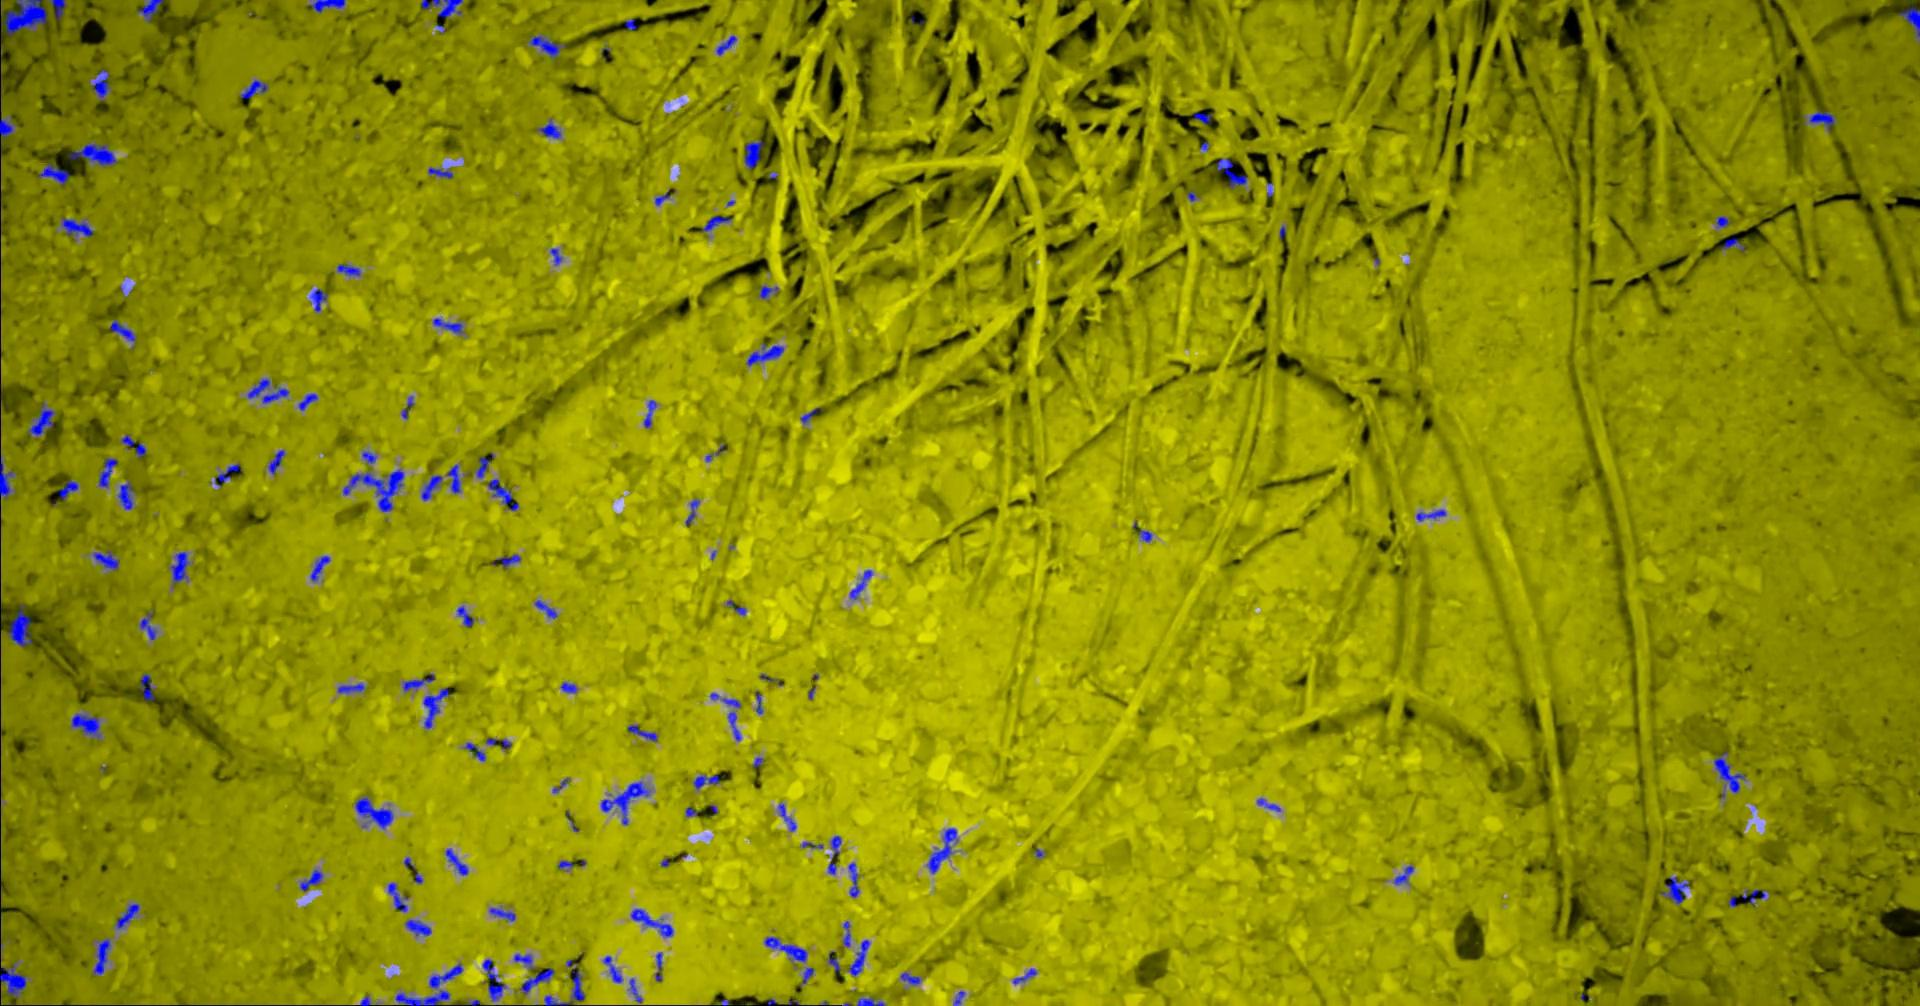ant: (344, 469, 405, 511), (602, 781, 651, 824), (1, 0, 48, 36), (928, 828, 959, 873), (1716, 751, 1747, 793), (356, 796, 395, 828), (632, 908, 676, 936), (424, 687, 453, 728), (70, 144, 119, 166), (488, 478, 521, 511), (766, 936, 808, 962), (10, 603, 34, 647), (249, 379, 290, 403), (484, 958, 507, 1000), (521, 967, 556, 993), (1218, 158, 1250, 187), (29, 401, 56, 434), (1, 964, 28, 997), (530, 36, 568, 58), (430, 963, 463, 988), (397, 989, 451, 1005), (748, 343, 785, 365), (850, 939, 871, 976), (110, 319, 137, 348), (1662, 876, 1691, 903), (72, 713, 102, 738), (422, 0, 463, 17), (39, 163, 71, 184), (94, 937, 112, 976), (851, 569, 872, 600), (171, 551, 190, 586), (1901, 5, 1920, 38), (389, 882, 409, 912), (122, 434, 147, 459), (117, 903, 141, 929), (447, 848, 470, 875), (745, 138, 764, 169), (63, 217, 94, 236), (138, 0, 165, 22), (216, 464, 243, 485), (1, 456, 15, 497), (93, 69, 110, 100), (422, 475, 443, 500), (1810, 109, 1836, 130), (241, 79, 269, 98), (404, 673, 436, 690), (100, 457, 118, 486), (604, 955, 623, 982), (141, 608, 157, 639), (780, 803, 797, 831), (301, 869, 324, 890), (538, 118, 563, 138), (94, 550, 119, 569), (312, 555, 331, 580), (703, 215, 733, 231), (434, 318, 463, 333), (119, 480, 135, 509), (629, 725, 658, 741), (141, 673, 157, 700), (60, 479, 80, 500), (309, 0, 347, 11), (536, 600, 559, 619), (311, 288, 329, 312), (1, 116, 17, 144), (571, 970, 585, 1001), (448, 464, 462, 493), (850, 862, 861, 897), (717, 36, 738, 55), (270, 448, 286, 474), (729, 710, 742, 741), (408, 920, 433, 935), (466, 742, 488, 760), (1015, 968, 1037, 984), (687, 498, 701, 525), (695, 774, 721, 788), (50, 0, 69, 19), (1396, 865, 1415, 884), (298, 392, 319, 410), (458, 605, 475, 626), (645, 399, 658, 427), (491, 907, 517, 921), (1417, 509, 1448, 521), (1723, 238, 1747, 251), (1743, 889, 1768, 903), (516, 953, 536, 969), (403, 395, 417, 418), (803, 406, 822, 423), (338, 263, 362, 276), (498, 554, 522, 567), (1258, 798, 1283, 810), (477, 456, 491, 478), (429, 166, 455, 178), (728, 600, 747, 615), (631, 978, 643, 1002), (339, 683, 366, 694), (545, 995, 571, 1005), (761, 285, 780, 298), (858, 996, 888, 1005), (902, 972, 921, 984), (1194, 112, 1214, 123), (657, 951, 664, 981), (832, 835, 842, 856), (830, 951, 841, 973), (803, 967, 815, 983), (844, 920, 852, 946), (363, 450, 377, 464), (551, 248, 563, 264), (563, 681, 578, 692), (1718, 215, 1731, 227), (1140, 528, 1153, 541), (626, 18, 637, 30)
